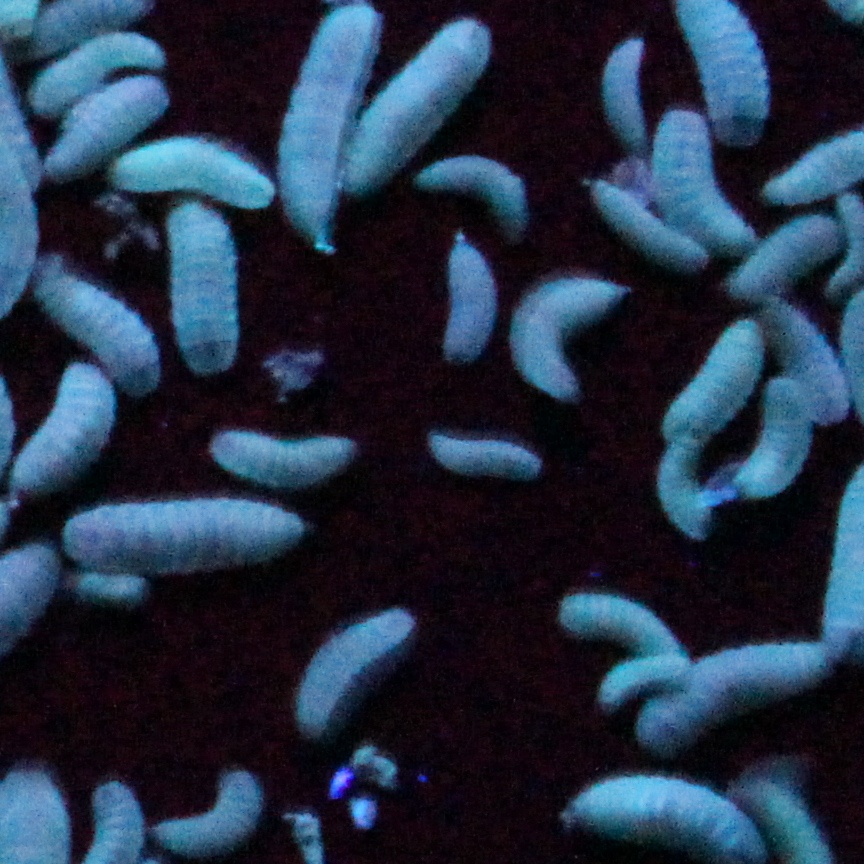larve: (324, 21, 494, 187), (643, 650, 839, 754), (24, 254, 163, 395), (69, 495, 308, 568), (286, 3, 355, 238), (643, 113, 757, 254), (6, 360, 116, 499), (157, 203, 243, 376), (300, 609, 414, 734), (510, 283, 630, 395), (43, 80, 167, 185), (663, 321, 769, 442), (580, 776, 758, 848), (94, 140, 285, 199), (736, 376, 822, 503), (543, 593, 681, 664), (41, 31, 163, 111), (771, 307, 855, 421), (588, 191, 706, 270), (737, 223, 853, 297), (158, 769, 265, 849), (422, 150, 534, 225), (439, 229, 496, 374), (204, 431, 361, 482), (588, 23, 649, 140), (653, 434, 714, 544), (432, 425, 547, 472), (596, 660, 688, 711)
